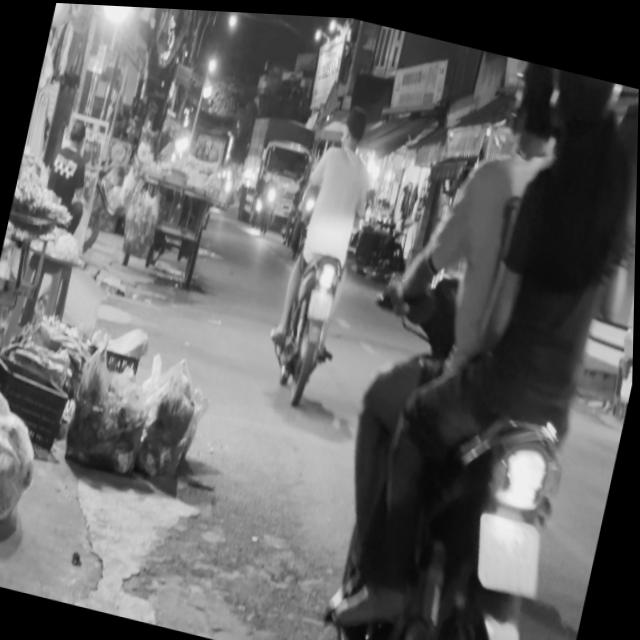helmet: (542, 63, 628, 159), (507, 55, 570, 153)
licenseplate: (302, 29, 640, 640), (260, 87, 393, 406)
motorcyclist: (342, 98, 375, 147)
nohelmet: (472, 505, 553, 591), (309, 285, 337, 318)
